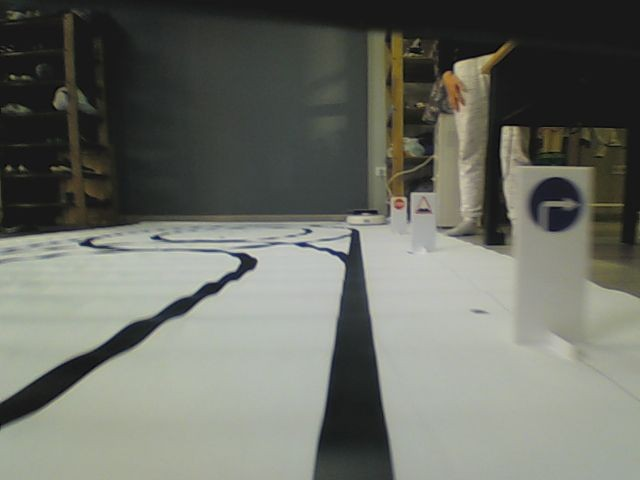Right: (529, 176, 583, 234)
